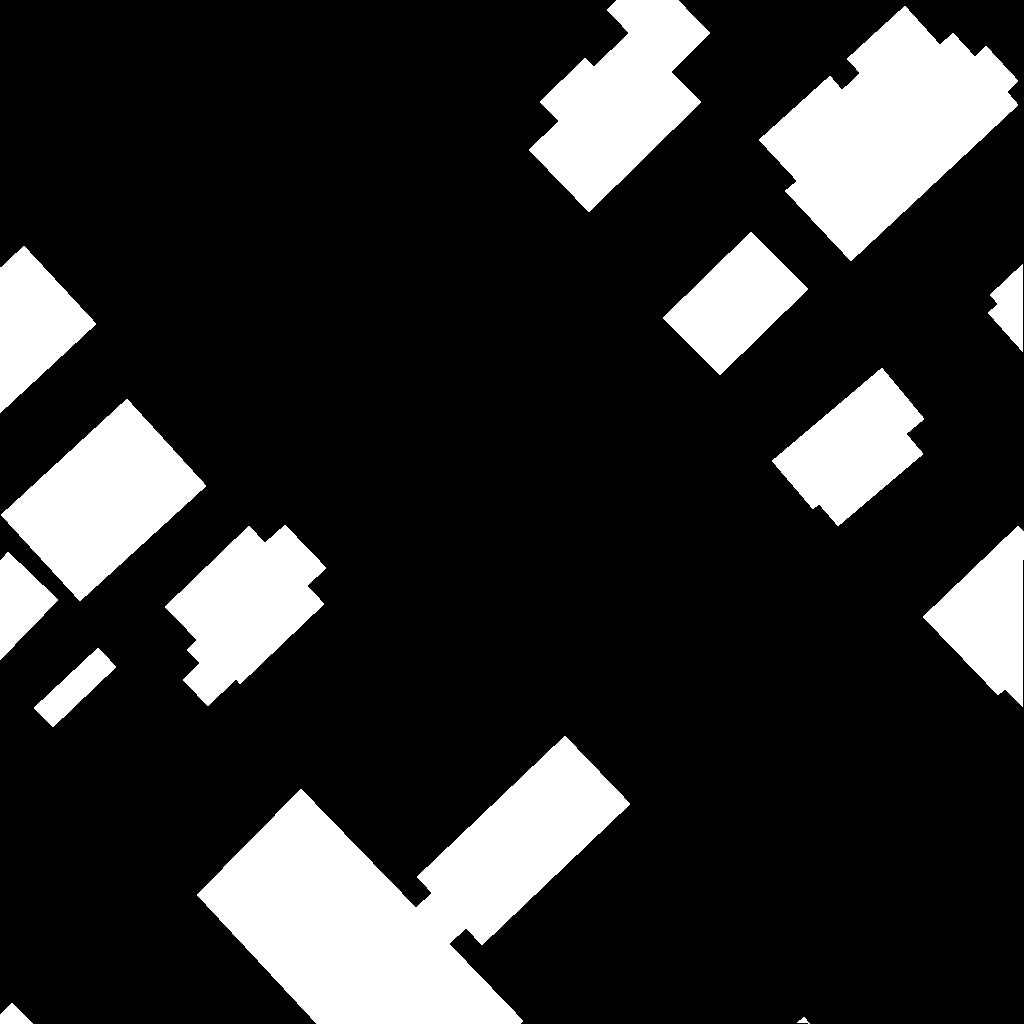building: (197, 736, 631, 1024), (759, 6, 1019, 262), (1, 399, 207, 602), (529, 0, 711, 213), (165, 525, 327, 707), (772, 368, 925, 527), (663, 232, 809, 376), (923, 526, 1024, 708), (0, 246, 97, 414), (34, 648, 117, 728), (0, 552, 59, 661), (988, 264, 1024, 353), (0, 1003, 34, 1024), (797, 1017, 811, 1024)
